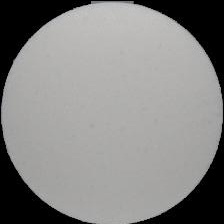10544-158: (0, 0, 224, 224)
